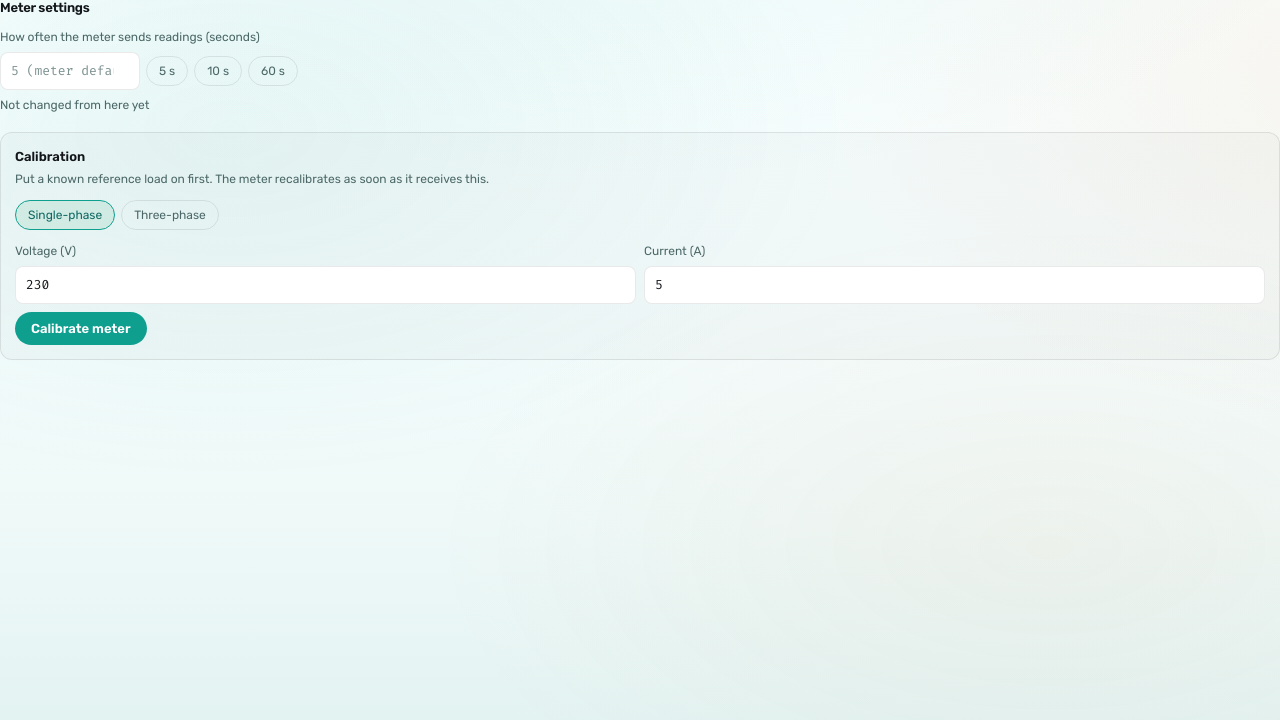
Test: C3: Calibrate goes through the confirm dialog and sends once
The width and height of the screenshot is (1280, 720).
Click the button "Calibrate meter".
click(81, 329)  # box [15,312,147,345]
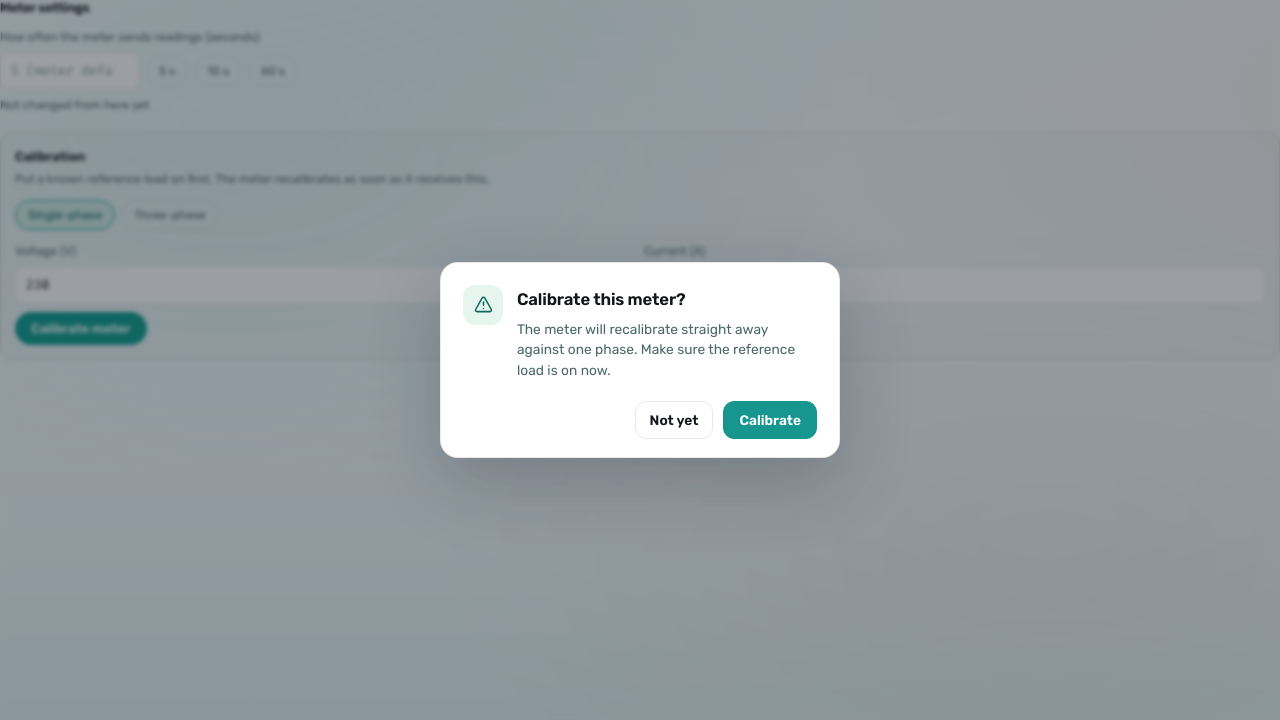
Click the button "Calibrate".
click(770, 420)  # box [723,401,817,439]
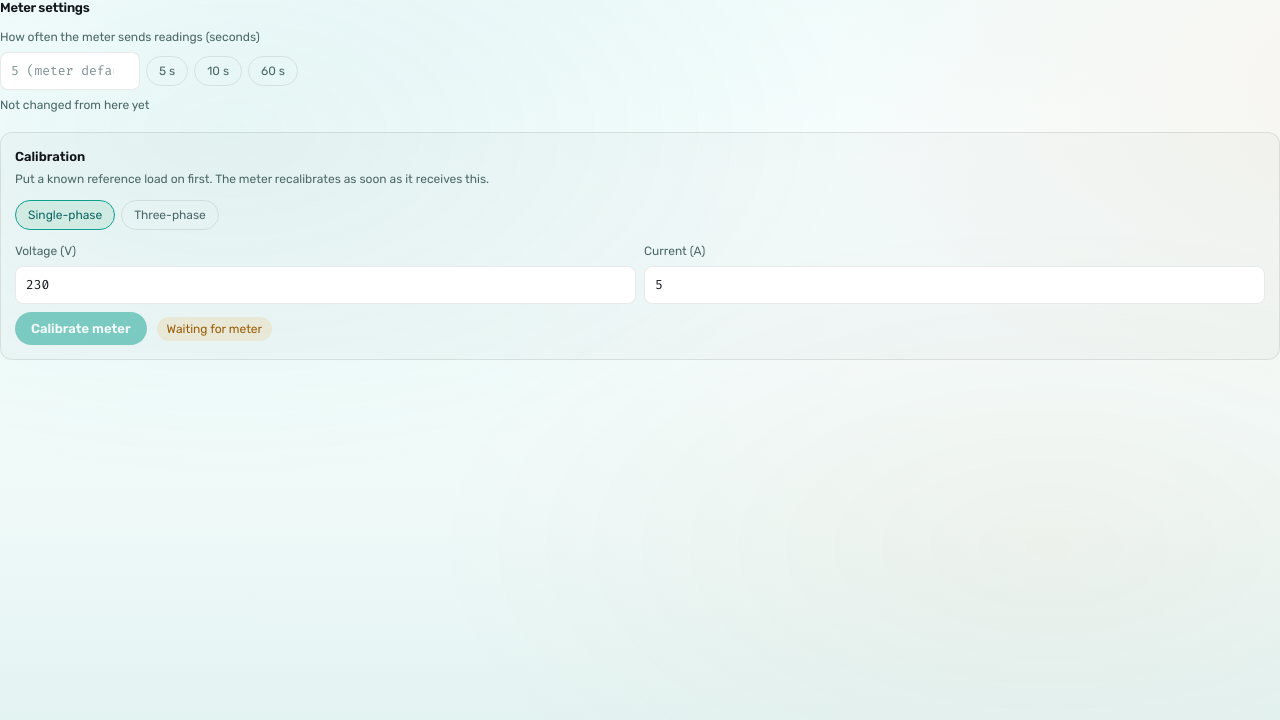
Expected: the text "Waiting for meter" is shown, [157,316,272,340]
